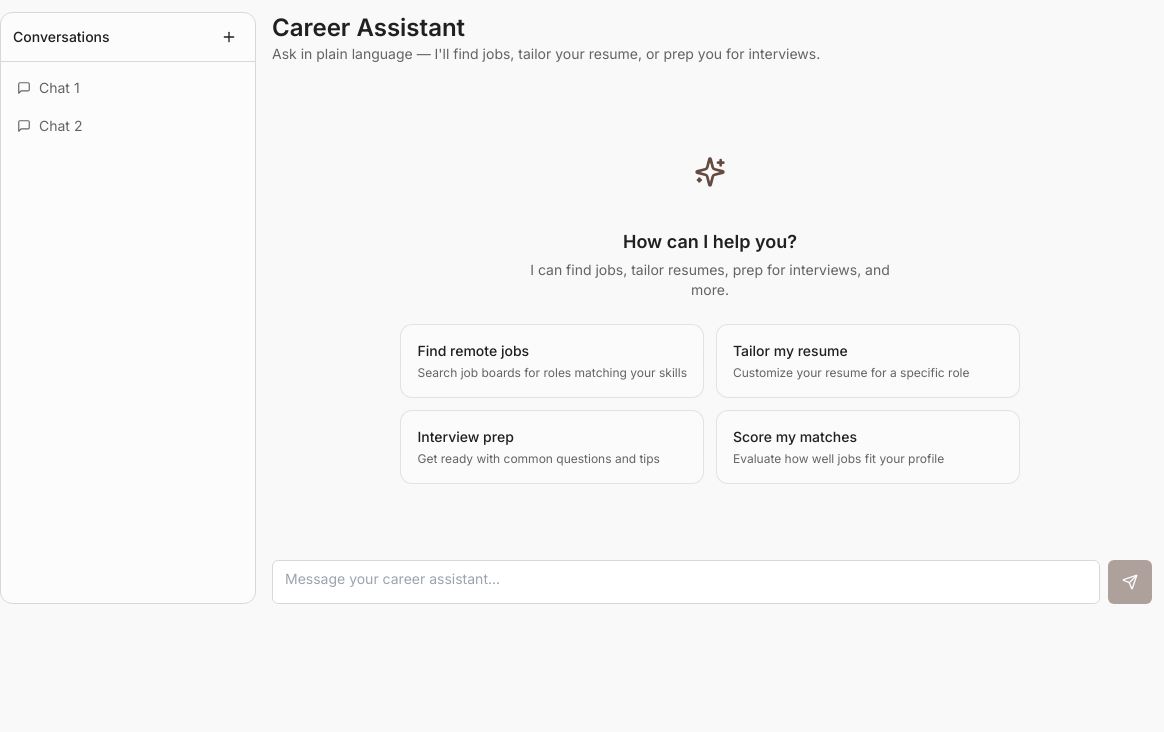
Test: AgentChatView › shows user and assistant messages after submission
The width and height of the screenshot is (1164, 732).
Step 1. Type "Find me jobs" into the text box with placeholder "Message your career assistant…" → (686, 582), box x1=272 y1=560 x2=1100 y2=604
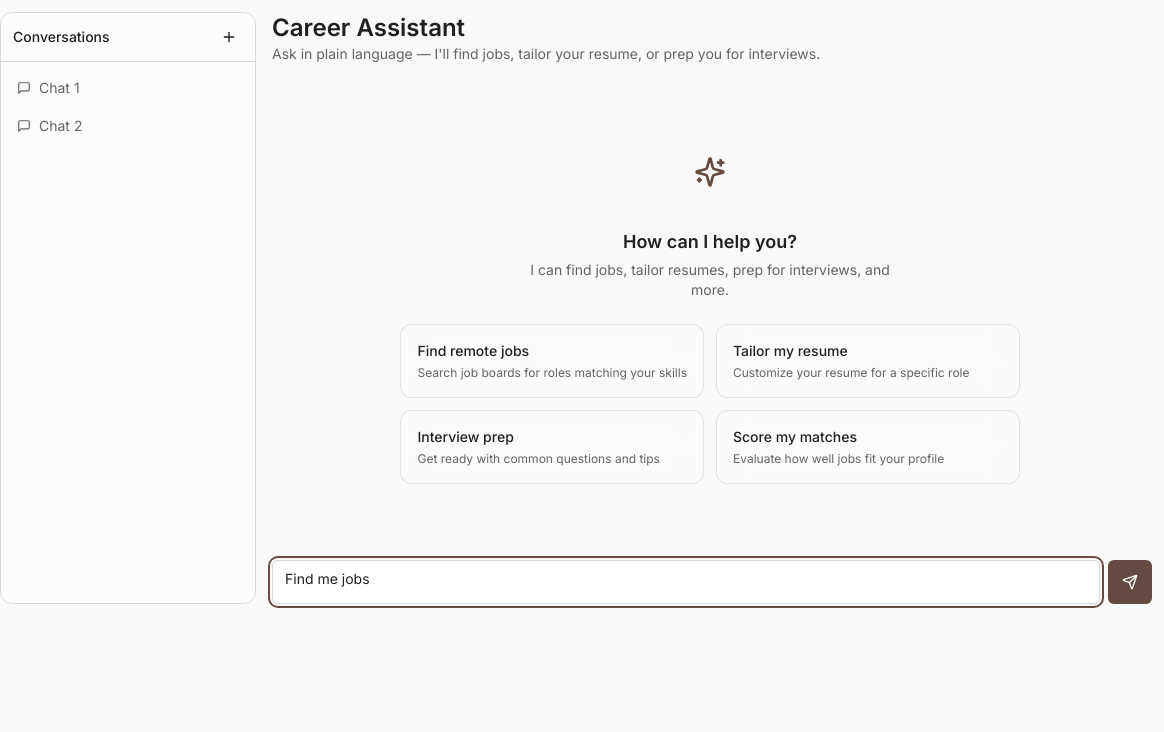
Step 2. Click the button named "send" → click(1130, 582), box x1=1108 y1=560 x2=1152 y2=604
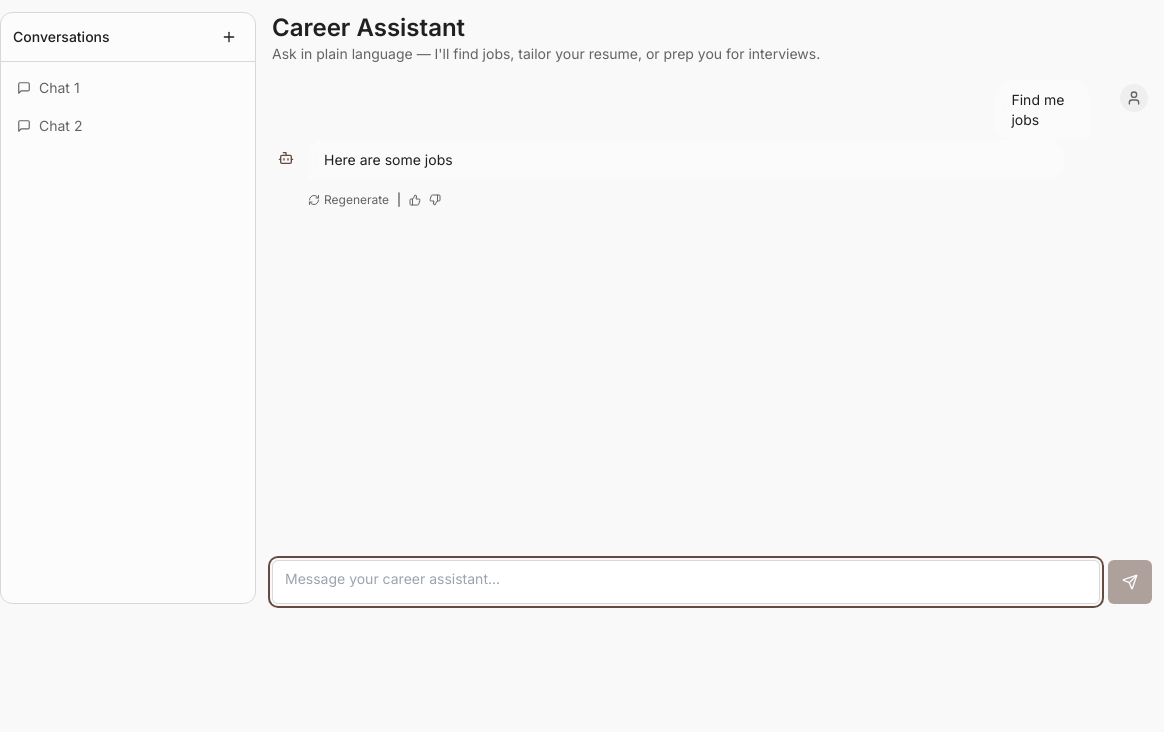
Expected: the text "Find me jobs" is shown, x1=996 y1=80 x2=1089 y2=140
